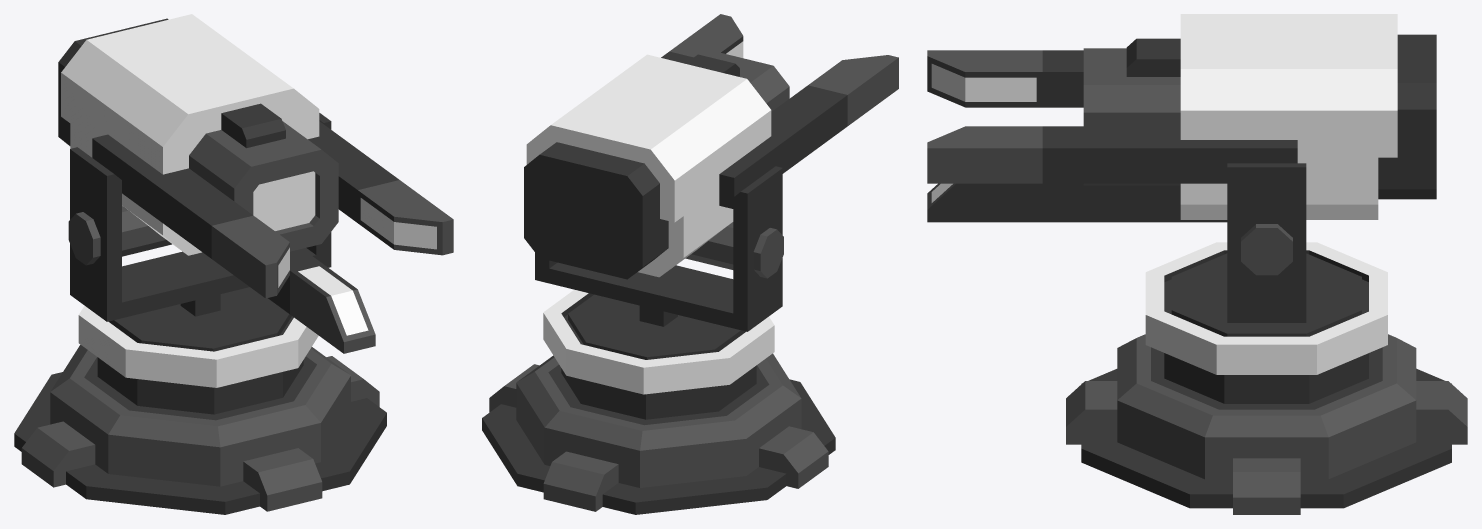
The model's file is Shock_2.fbx.
The picture shows the model from 3 angles, left to right: view 1: azimuth 30°, elevation 25°; view 2: azimuth 150°, elevation 25°; view 3: azimuth 270°, elevation 25°; orthographic projection. The views are drawn at different scales.
Parts seen in each view (by area): view 1: Body_Mesh, Base_Mesh, Upper_Mesh; view 2: Body_Mesh, Base_Mesh, Upper_Mesh; view 3: Body_Mesh, Base_Mesh, Upper_Mesh.
Boxes of the visible parts, left/top/right/bottom form: Body_Mesh: left=58, top=14, right=453, bottom=353; Base_Mesh: left=14, top=344, right=386, bottom=514; Upper_Mesh: left=70, top=113, right=331, bottom=414; Body_Mesh: left=524, top=14, right=898, bottom=279; Base_Mesh: left=482, top=353, right=835, bottom=514; Upper_Mesh: left=535, top=166, right=782, bottom=419; Body_Mesh: left=927, top=14, right=1436, bottom=275; Base_Mesh: left=1066, top=334, right=1467, bottom=514; Upper_Mesh: left=1145, top=163, right=1387, bottom=403.
Size of the model in its own units: 1.3 by 1.39 by 1.75.
